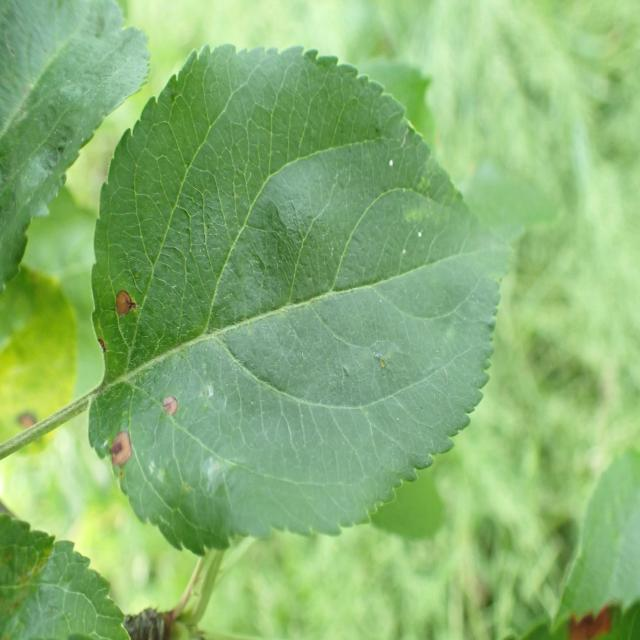Black Rot: (100, 420, 136, 473), (108, 281, 140, 328), (153, 377, 184, 425), (91, 328, 123, 364)
